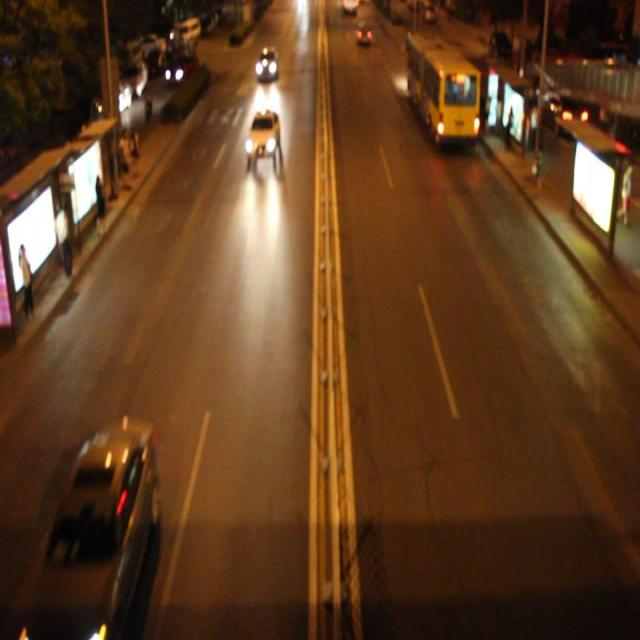car: (27, 413, 157, 640), (247, 107, 280, 160), (254, 45, 279, 82)
van: (405, 27, 478, 141)
